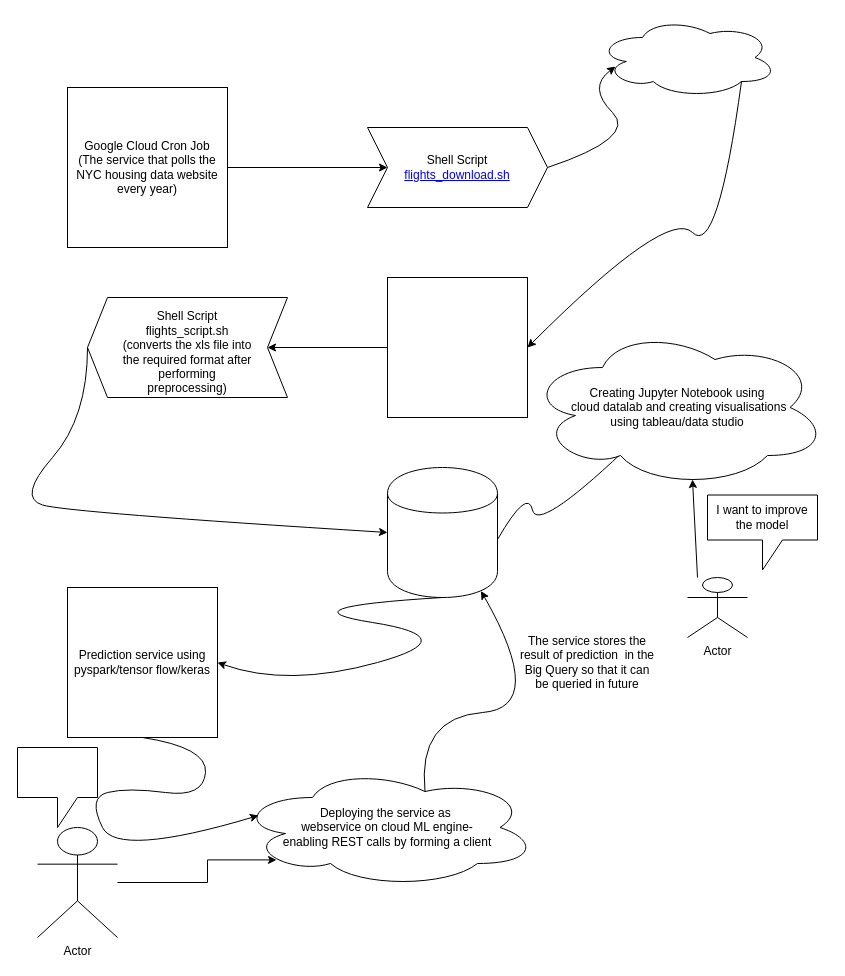
The diagram is 845 pixels wide and 976 high, and some of its shapes have lost their labels. The centre of each missing label's shape, as x and y in pixels:
"Big Query" belongs at point 442,532.
"Google Cloud Shell (Local Storage)" belongs at point 457,347.
"I want to know my housing price" belongs at point 57,787.
"NYC official website" belongs at point 687,57.
